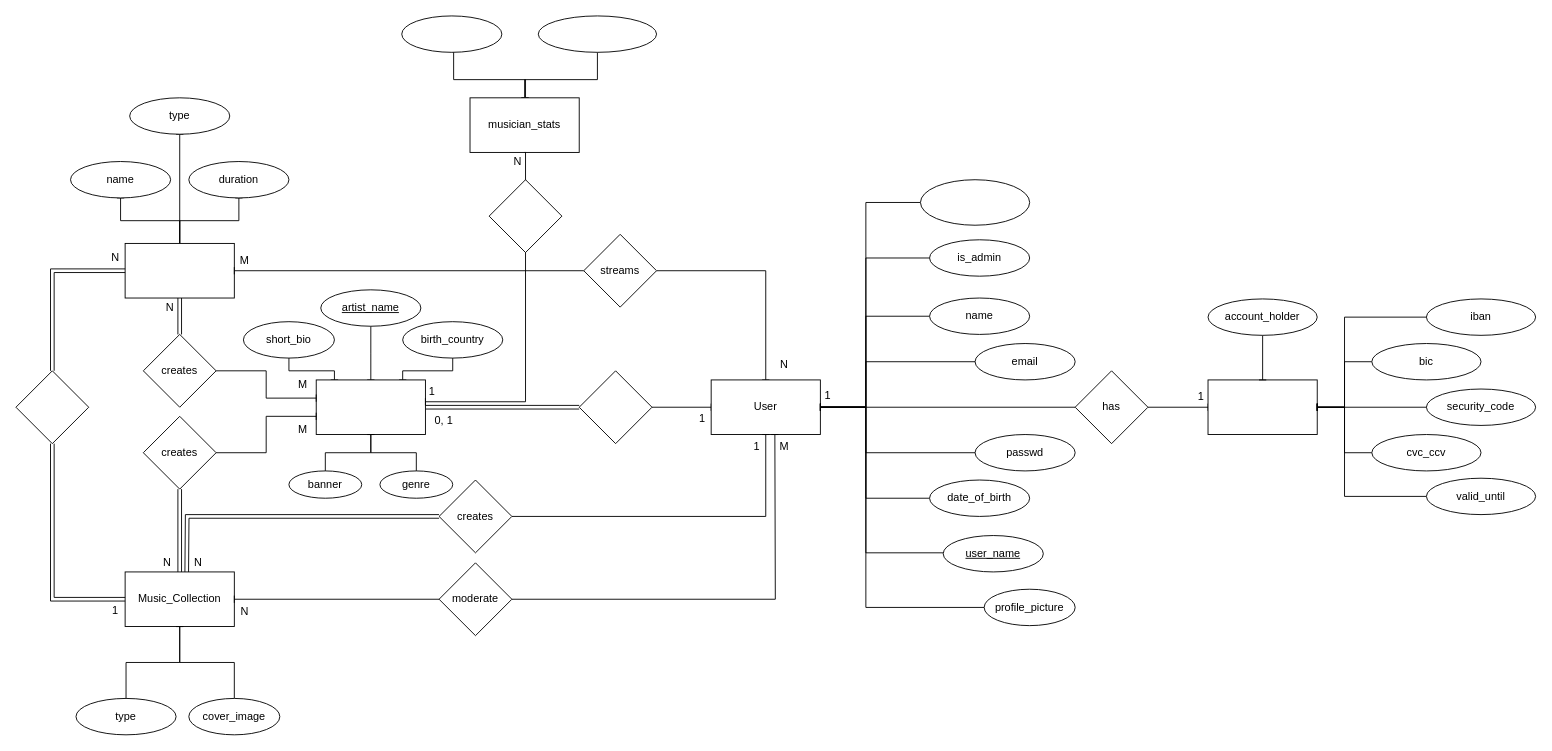
Some shapes in this 1552 by 751 pixel diagram are drawn without their labels. Each missing label, with the box of its shape:
Banking_Information: (1207, 379, 1317, 435)
belongs_to: (15, 370, 89, 444)
has_daily: (488, 179, 562, 253)
is: (578, 370, 652, 444)
is_subscriber: (920, 179, 1030, 225)
Musician: (315, 379, 425, 435)
revenue: (537, 15, 657, 52)
Song: (124, 243, 234, 298)
streamed_songs: (401, 15, 502, 52)
